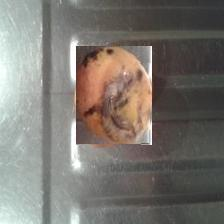Mango Rotten: (76, 47, 152, 146)
